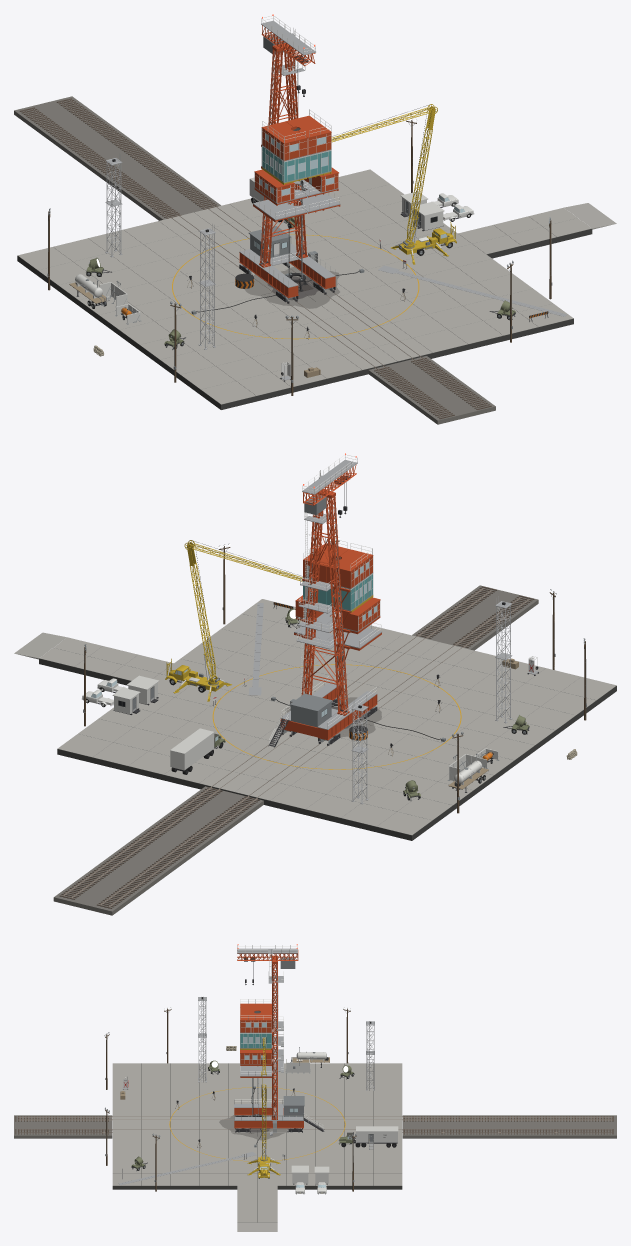
The model's file is pad.glb.
The picture shows the model from 3 angles, top to bottom: view 1: azimuth 30°, elevation 25°; view 2: azimuth 150°, elevation 25°; view 3: azimuth 270°, elevation 25°; orthographic projection. The views are drawn at different scales.
Visible parts, largest first — view 1: Hardstand_Concrete, Hardstand_Ballast, Hardstand_Tie, ServiceStructure_Red, Hardstand_Joint, Hardstand_Rail, ServiceStructure_Deck, Hardstand_Stain, ServiceStructure_Platform4_Left_Red, CameraTowers_Tower1_Galv, CameraTowers_Tower2_Galv, CherryPicker_Mast_Yellow (+12 smaller); view 2: Hardstand_Concrete, Hardstand_Ballast, ServiceStructure_Red, Hardstand_Tie, Hardstand_Joint, Hardstand_Rail, ServiceStructure_Deck, ServiceStructure_Grey, CameraTowers_Tower1_Galv, GroundEquipment_Trailer_TrailerVan, ServiceStructure_White, CameraTowers_Tower2_Galv (+10 smaller); view 3: Hardstand_Concrete, Hardstand_Ballast, Hardstand_Rail, ServiceStructure_Red, Hardstand_Tie, Hardstand_Joint, ServiceStructure_Deck, ServiceStructure_Grey, GroundEquipment_Trailer_TrailerVan, ServiceStructure_White, ServiceStructure_Platform4_Right_Red, Hardstand_Stain (+5 smaller).
Part boxes in pixels (box(x1,y1,x2,y2)): Hardstand_Concrete: box(18, 169, 591, 404); Hardstand_Ballast: box(14, 96, 495, 424); Hardstand_Tie: box(19, 98, 491, 419); ServiceStructure_Red: box(239, 25, 335, 298); Hardstand_Joint: box(17, 211, 592, 409); Hardstand_Rail: box(23, 99, 486, 416); ServiceStructure_Deck: box(239, 20, 335, 287); Hardstand_Stain: box(244, 266, 339, 308); ServiceStructure_Platform4_Left_Red: box(261, 121, 307, 160); CameraTowers_Tower1_Galv: box(199, 228, 215, 349); CameraTowers_Tower2_Galv: box(105, 158, 122, 257); CherryPicker_Mast_Yellow: box(407, 104, 437, 240); Hardstand_Concrete: box(39, 599, 616, 835); Hardstand_Ballast: box(53, 585, 538, 915); ServiceStructure_Red: box(280, 464, 377, 740); Hardstand_Tie: box(59, 586, 534, 908); Hardstand_Joint: box(39, 637, 616, 840); Hardstand_Rail: box(63, 587, 528, 907); ServiceStructure_Deck: box(280, 460, 376, 729); ServiceStructure_Grey: box(289, 494, 375, 741); CameraTowers_Tower1_Galv: box(495, 601, 512, 723); GroundEquipment_Trailer_TrailerVan: box(170, 728, 214, 770); ServiceStructure_White: box(269, 454, 376, 745); CameraTowers_Tower2_Galv: box(351, 704, 368, 804); Hardstand_Concrete: box(112, 1063, 402, 1222); Hardstand_Ballast: box(14, 1115, 616, 1138); Hardstand_Rail: box(18, 1116, 612, 1132); ServiceStructure_Red: box(234, 950, 303, 1128); Hardstand_Tie: box(15, 1116, 613, 1134); Hardstand_Joint: box(112, 1063, 402, 1222); ServiceStructure_Deck: box(234, 948, 303, 1135); ServiceStructure_Grey: box(239, 957, 304, 1131); GroundEquipment_Trailer_TrailerVan: box(356, 1126, 398, 1143); ServiceStructure_White: box(234, 945, 323, 1131); ServiceStructure_Platform4_Right_Red: box(240, 1012, 271, 1032); Hardstand_Stain: box(219, 1115, 287, 1140).
Bounding box in the file's own units: 90.64 × 42.38 × 127.
